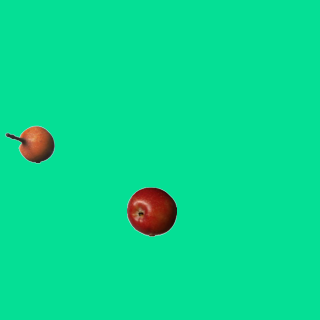Apple Braeburn: (126, 186, 176, 236)
Granadilla: (4, 119, 54, 169)
